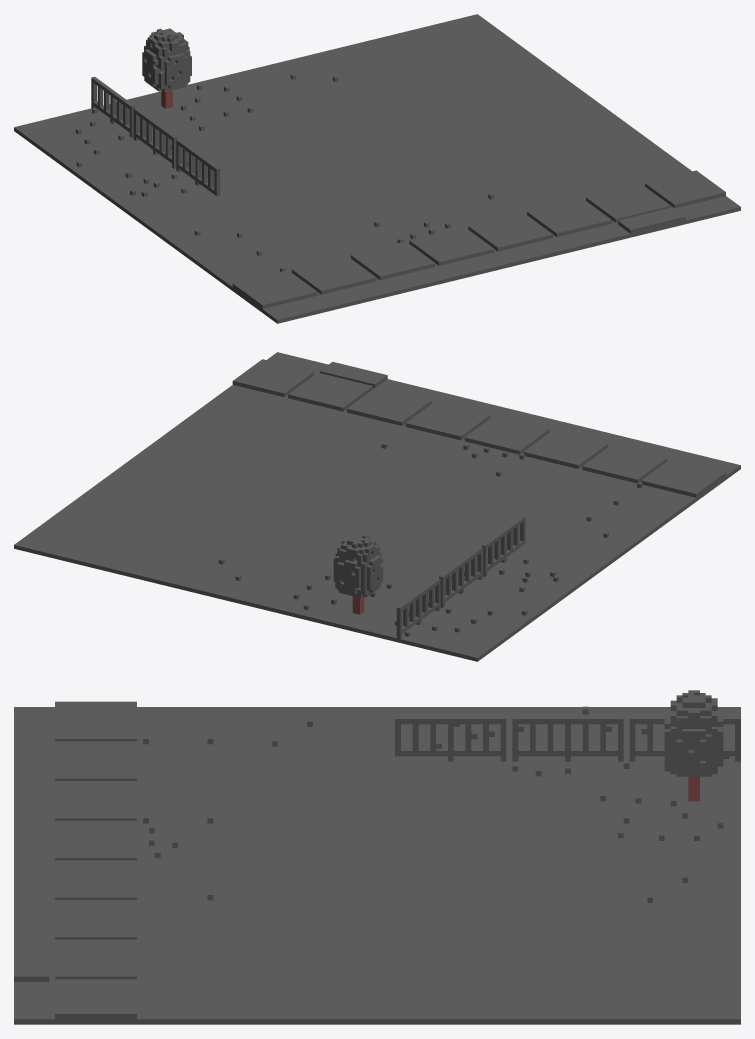
File: scene_house2.obj
The picture shows the model from 3 angles, top to bottom: view 1: azimuth 30°, elevation 25°; view 2: azimuth 150°, elevation 25°; view 3: azimuth 270°, elevation 25°; orthographic projection. The views are drawn at different scales.
Bounding box in the file's own units: 126 × 20 × 124.
